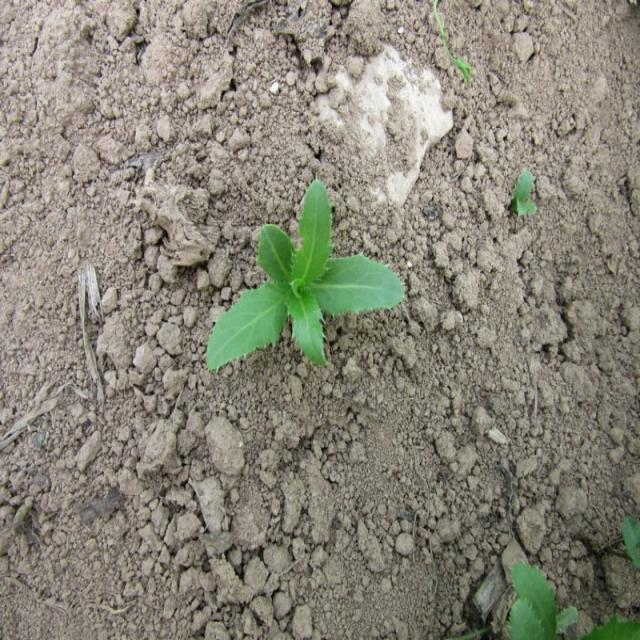cs: (205, 170, 412, 376)
